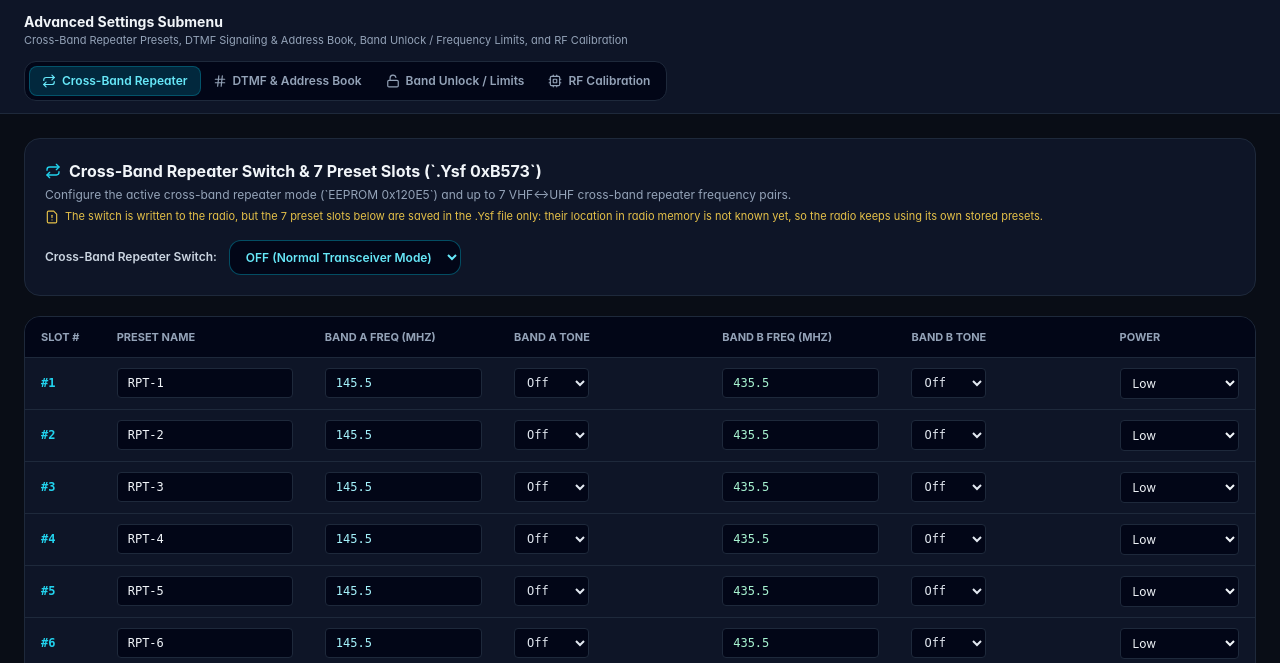
Scenario: settings that are not written to the radio › marks the cross-band preset slots and the DTMF local ID as file-only
Expected: the text "7 preset slots below are saved in the .Ysf file only" is shown, 65,208 -> 1043,222
Click the button "DTMF & Address Book" at (287, 80), box 200,66 -> 374,94
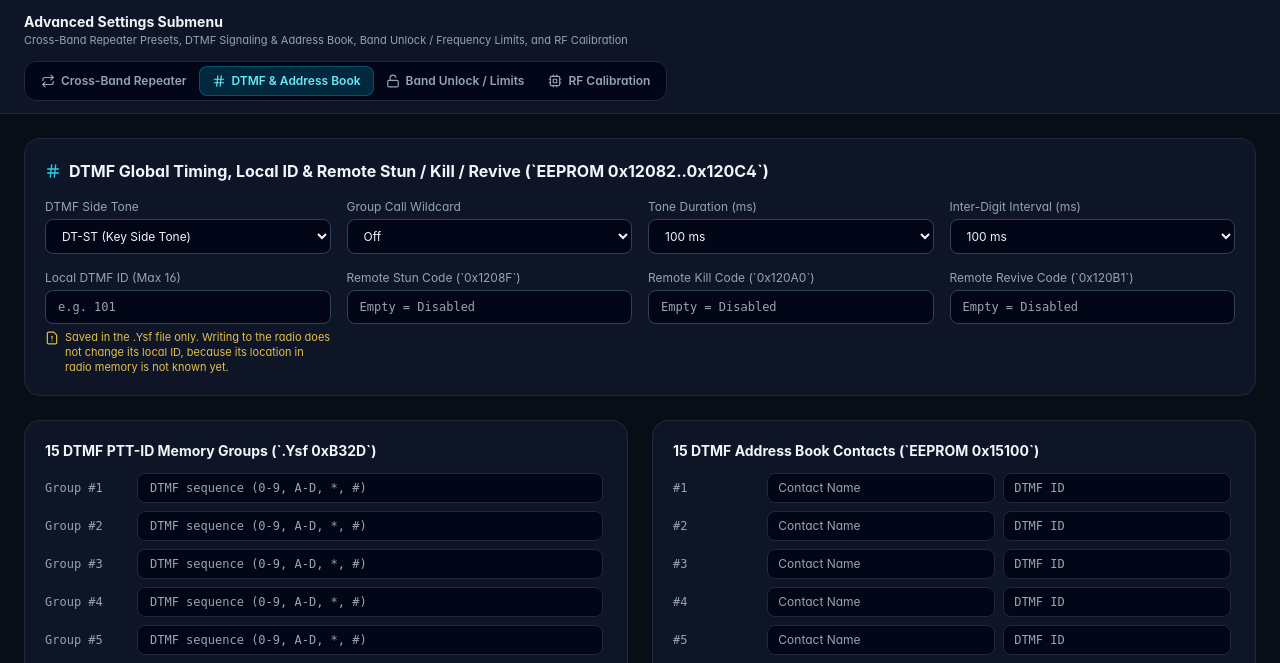
Now the text "does not change its local ID" is shown, box 65,330 -> 330,374
